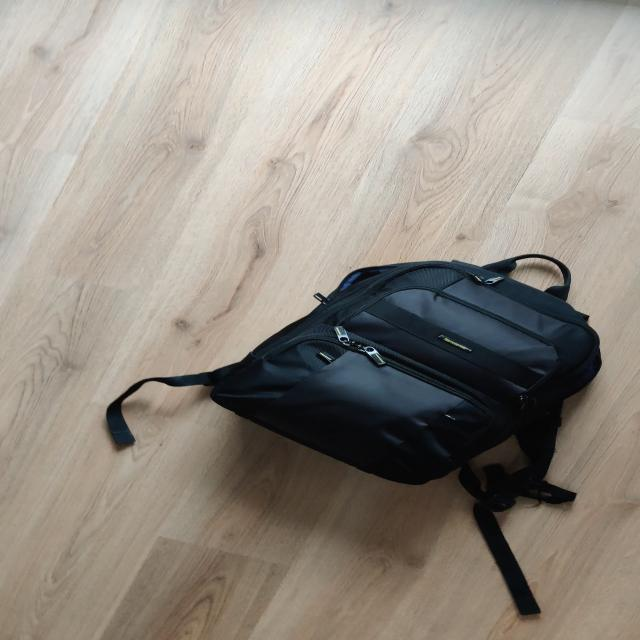backpack: (202, 249, 622, 506)
